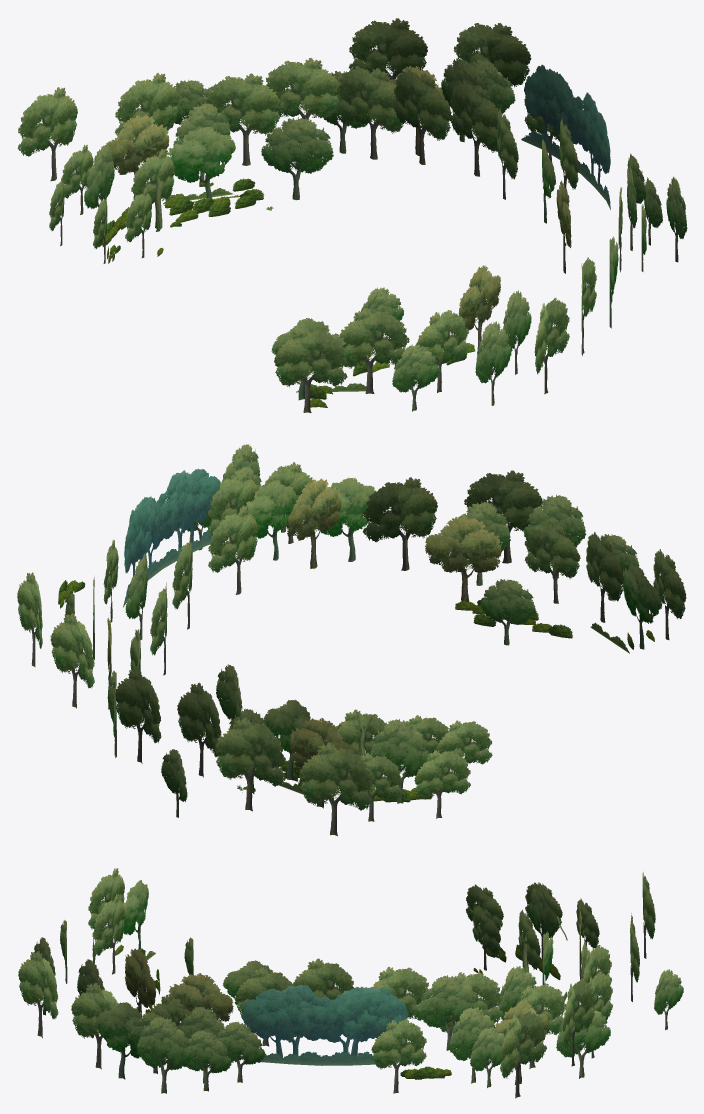
File: SurroundingTrees.fbx
3 renders of one model, top to bottom at view 1: azimuth 30°, elevation 25°; view 2: azimuth 150°, elevation 25°; view 3: azimuth 270°, elevation 25°, orthographic. The views are drawn at different scales.
Visible parts, largest first — view 1: polySurface47827; view 2: polySurface47827; view 3: polySurface47827.
Boxes of the visible parts, x1,y1,x2,y2 form: polySurface47827: (17,18,687,412); polySurface47827: (17,444,686,836); polySurface47827: (18,868,683,1098).
Bounding box in the file's own units: 819 × 258 × 1109.
